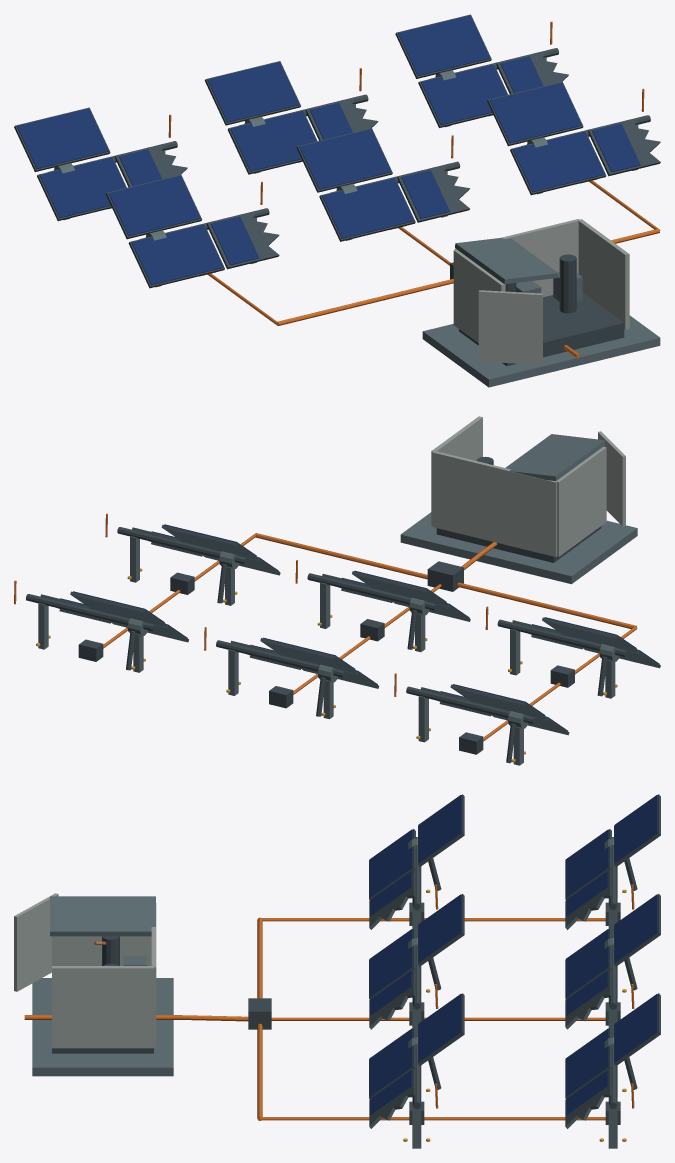
The model's file is solar_power_complex_d2.glb.
The picture shows the model from 3 angles, top to bottom: view 1: azimuth 30°, elevation 25°; view 2: azimuth 150°, elevation 25°; view 3: azimuth 270°, elevation 25°; orthographic projection. The views are drawn at different scales.
Parts seen in each view (by area): view 1: SOLAR_GAME_MESH; view 2: SOLAR_GAME_MESH; view 3: SOLAR_GAME_MESH.
Boxes of the visible parts, <box> form: SOLAR_GAME_MESH: <box>14,14,660,387</box>; SOLAR_GAME_MESH: <box>14,416,660,765</box>; SOLAR_GAME_MESH: <box>14,794,660,1148</box>.
Size of the model in its own units: 16.53 by 2.89 by 16.49.
